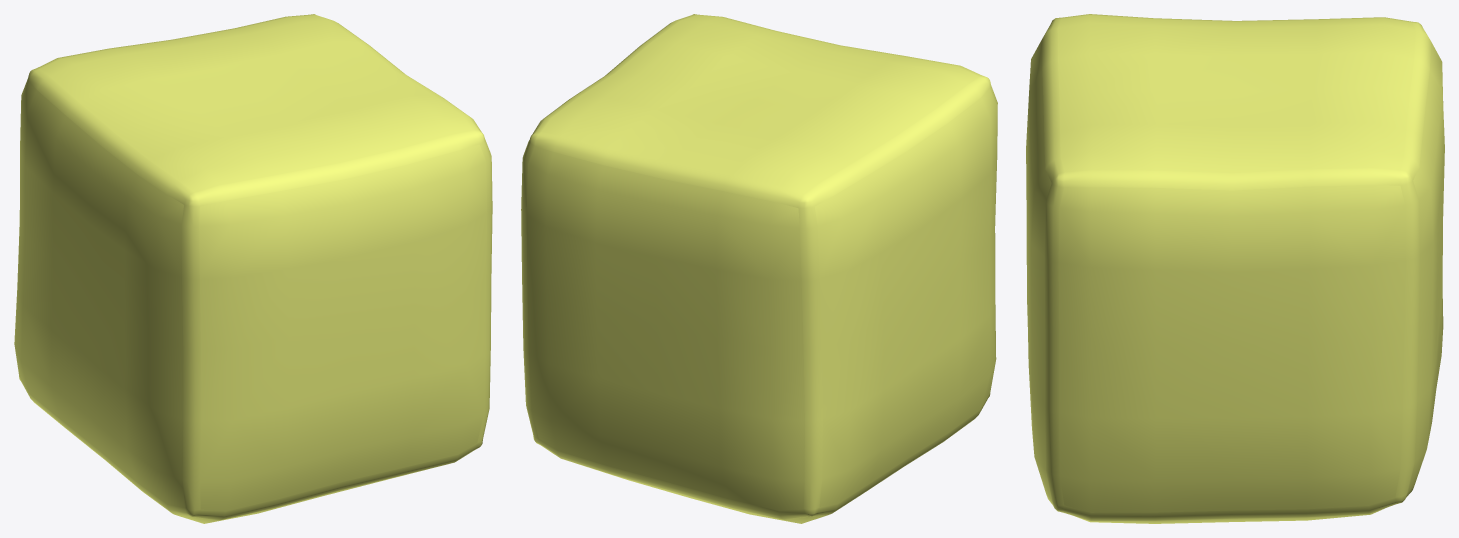
File: obj_resource_nugget3.fbx
The picture shows the model from 3 angles, left to right: view 1: azimuth 30°, elevation 25°; view 2: azimuth 150°, elevation 25°; view 3: azimuth 270°, elevation 25°; orthographic projection. The views are drawn at different scales.
Parts seen in each view (by area): view 1: Cube.002; view 2: Cube.002; view 3: Cube.002.
Part boxes in pixels (<box>): Cube.002: <box>14,14,492,523</box>; Cube.002: <box>521,14,997,523</box>; Cube.002: <box>1026,14,1444,523</box>.
Size of the model in its own units: 1.89 by 1.96 by 1.92.
